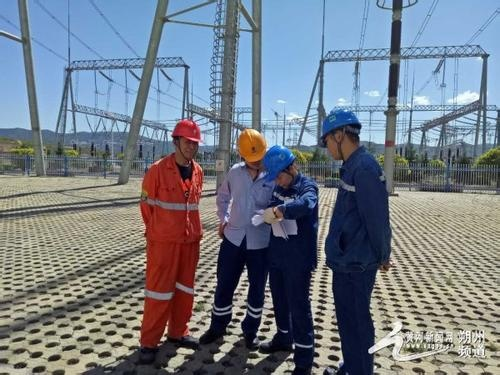blue: (320, 107, 367, 160), (262, 144, 298, 184)
red: (171, 119, 201, 160)
yellow: (237, 127, 266, 167)
